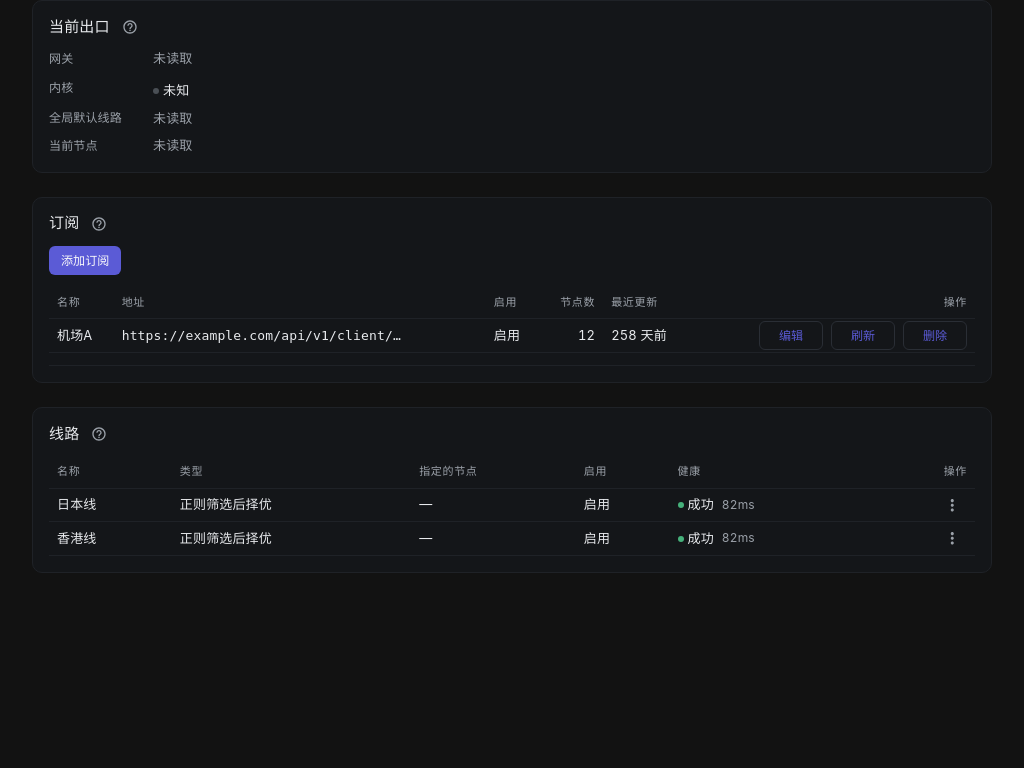
Test: /network：有数据 / 空 / 错误三种状态都说实话 › 判据 B：线路表每行操作格里只有一个 ⋮，其余控件只在菜单里（不会把行折成两行）
This screenshot has width=1024, height=768.
Expected: the button named "操作：香港线" is shown, [938, 524, 967, 553]
Click the 1st button with test id "network-lanes-actions": x=953, y=505 [938, 491, 967, 519]
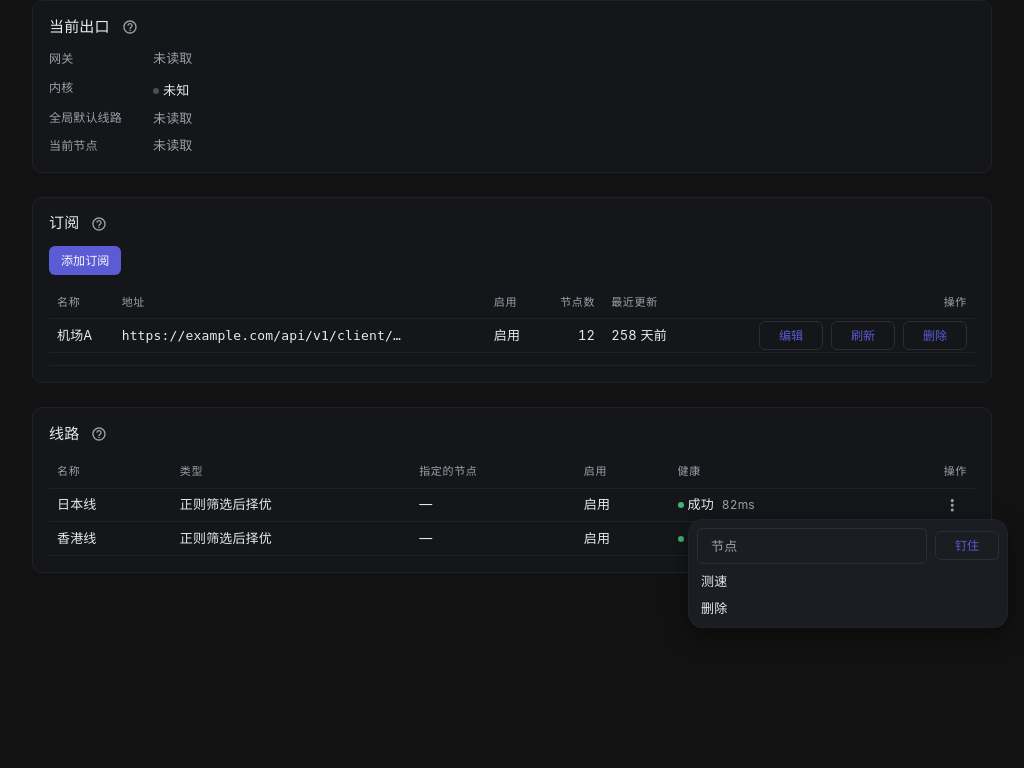
Expected: the element with test id "network-lanes-menu" is shown, [688, 519, 1008, 628]
Expected: the menu item with test id "network-lanes-test" is shown, [701, 573, 727, 589]
Expected: the menu item with test id "network-lanes-delete" is shown, [701, 600, 727, 616]
